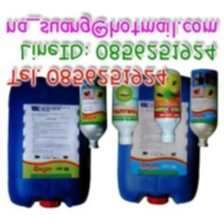insecticide: (111, 70, 204, 208), (4, 73, 97, 211), (186, 66, 219, 148), (76, 70, 108, 150), (150, 66, 182, 144), (109, 69, 141, 144)
